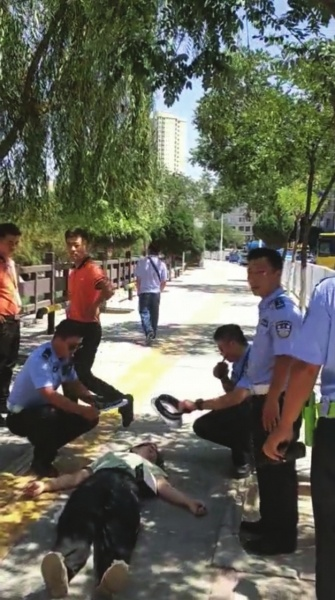falling: (25, 423, 204, 599)
